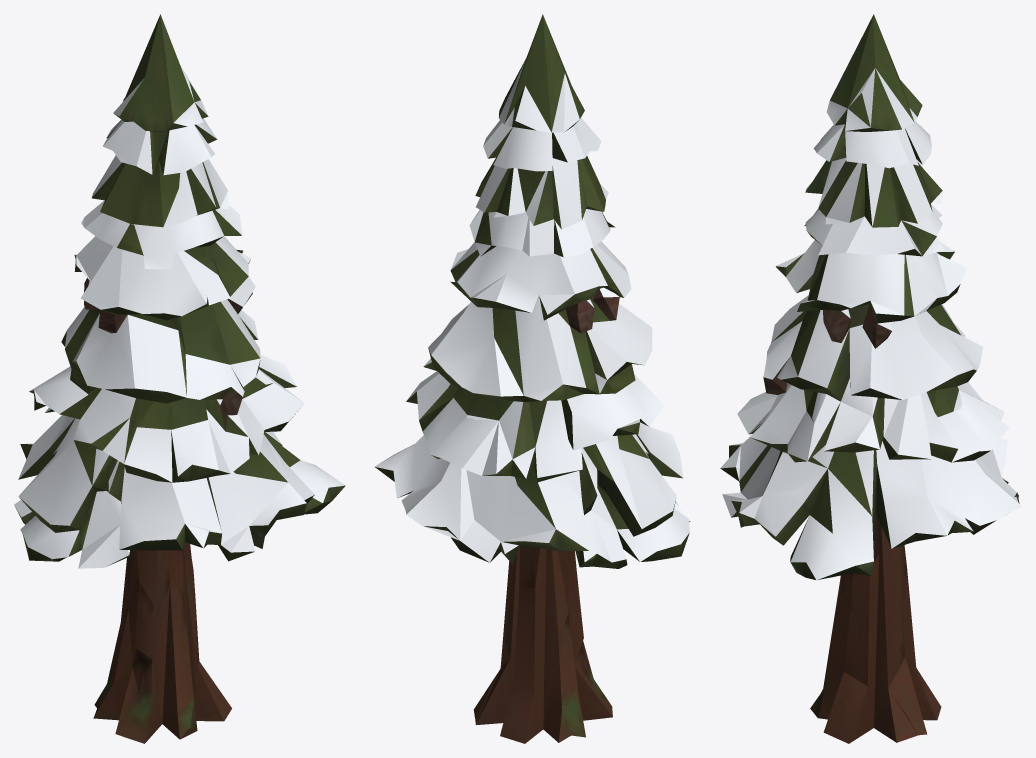
Rendered from bg_snow_pine_2_lod0.glb.
The picture shows the model from 3 angles, left to right: view 1: azimuth 30°, elevation 25°; view 2: azimuth 150°, elevation 25°; view 3: azimuth 270°, elevation 25°; orthographic projection.
Parts seen in each view (by area): view 1: sway, body; view 2: sway, body; view 3: sway, body.
Boxes of the visible parts, box(x1,y1,x2,y2) form: sway: box(14, 14, 345, 568); body: box(84, 278, 252, 743); sway: box(374, 14, 691, 568); body: box(473, 289, 623, 743); sway: box(720, 14, 1021, 580); body: box(763, 304, 941, 743).
Size of the model in its own units: 3.5 by 8.01 by 3.12.
2 materials, 1 textured.
